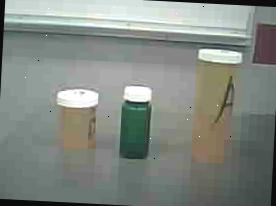Bottle A: (187, 43, 247, 175)
Bottle B: (52, 83, 104, 156)
Bottle C: (113, 79, 158, 166)
